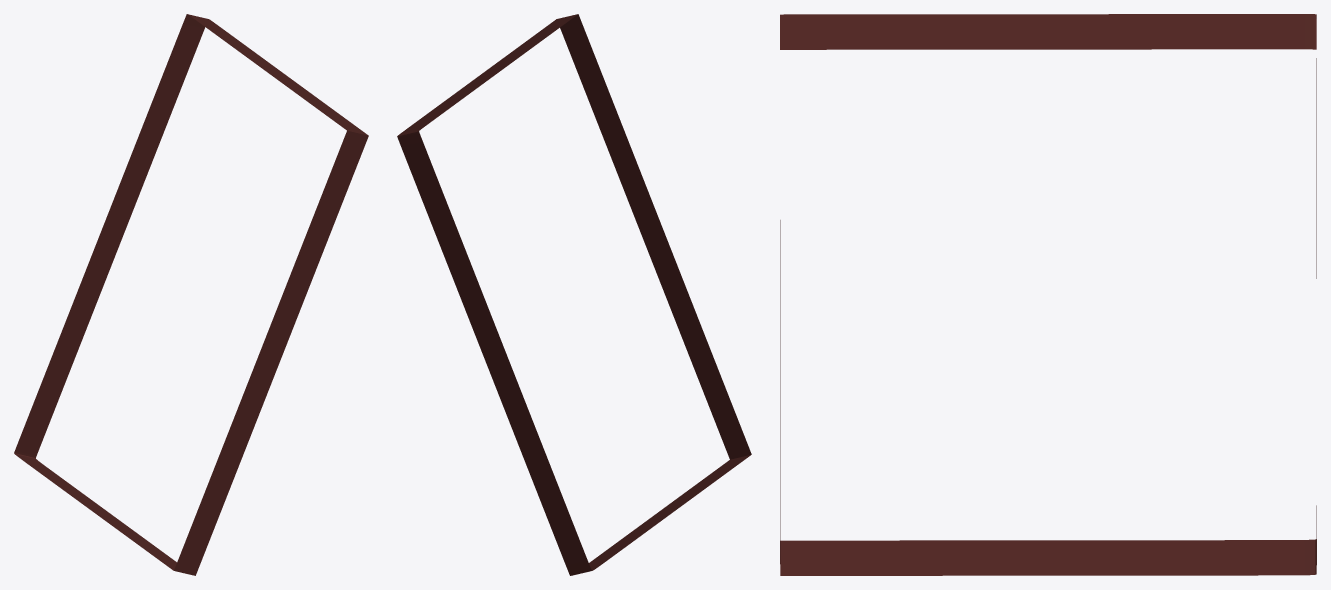
File: object_98_lev1.glb
The picture shows the model from 3 angles, left to right: view 1: azimuth 30°, elevation 25°; view 2: azimuth 150°, elevation 25°; view 3: azimuth 270°, elevation 25°; orthographic projection. The views are drawn at different scales.
Visible parts, largest first — view 1: object_98_lev1; view 2: object_98_lev1; view 3: object_98_lev1.
Boxes of the visible parts, x1,y1,x2,y2 form: object_98_lev1: (14, 14, 368, 575); object_98_lev1: (397, 14, 751, 575); object_98_lev1: (780, 14, 1316, 575).
Bounding box in the file's own units: 0.1067 × 0.2132 × 0.1513.
